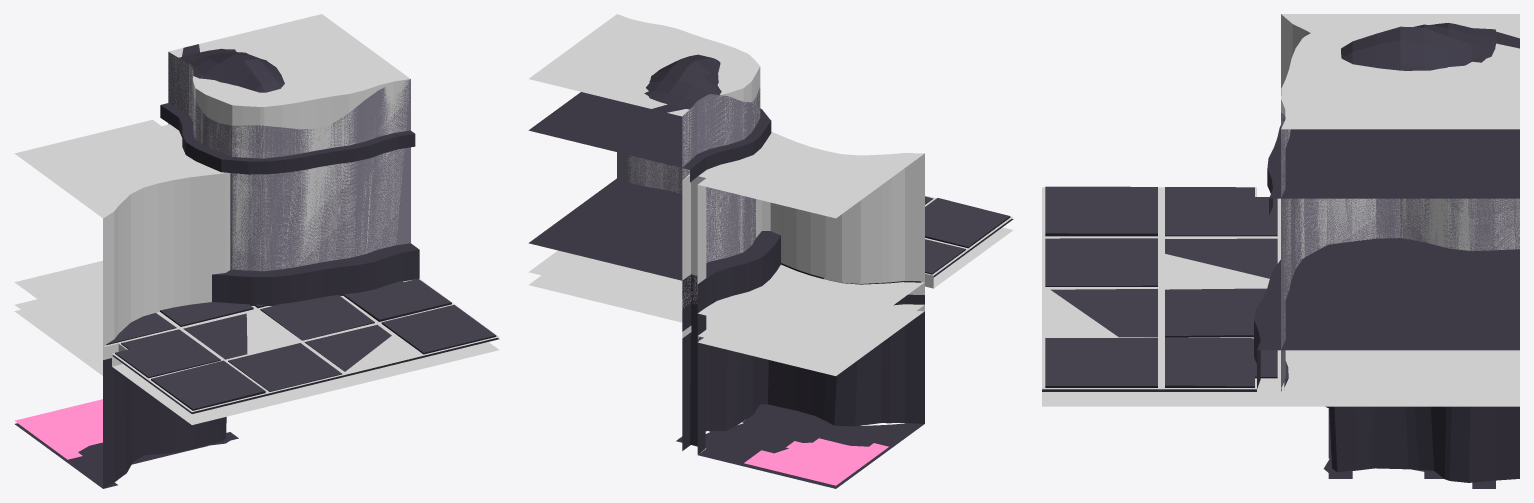
The model's file is Tile_LWFF.fbx.
3 views of the same model, side by side, from view 1: azimuth 30°, elevation 25°; view 2: azimuth 150°, elevation 25°; view 3: azimuth 270°, elevation 25° (orthographic). The views are drawn at different scales.
Parts seen in each view (by area): view 1: Tile_LWFF, Tile_LWFF_ColCrackBlocker, Tile_LWFF_ColWall, Tile_LWFF_ColGround, Tile_LWFF_ColCrackSurface; view 2: Tile_LWFF, Tile_LWFF_ColCrackBlocker, Tile_LWFF_ColWall, Tile_LWFF_ColGround, Tile_LWFF_ColCrackSurface; view 3: Tile_LWFF, Tile_LWFF_ColWall, Tile_LWFF_ColGround, Tile_LWFF_ColCrackBlocker.
Part boxes in pixels (bbox=[...]): Tile_LWFF: bbox=[14, 44, 499, 488]; Tile_LWFF_ColCrackBlocker: bbox=[14, 119, 230, 346]; Tile_LWFF_ColWall: bbox=[168, 14, 410, 270]; Tile_LWFF_ColGround: bbox=[103, 278, 499, 424]; Tile_LWFF_ColCrackSurface: bbox=[14, 299, 102, 375]; Tile_LWFF: bbox=[528, 54, 1013, 488]; Tile_LWFF_ColCrackBlocker: bbox=[682, 131, 924, 347]; Tile_LWFF_ColWall: bbox=[529, 14, 760, 309]; Tile_LWFF_ColGround: bbox=[528, 195, 1013, 322]; Tile_LWFF_ColCrackSurface: bbox=[682, 304, 924, 375]; Tile_LWFF: bbox=[1042, 23, 1519, 488]; Tile_LWFF_ColWall: bbox=[1281, 17, 1519, 389]; Tile_LWFF_ColGround: bbox=[1042, 187, 1519, 406]; Tile_LWFF_ColCrackBlocker: bbox=[1281, 14, 1519, 250].
Size of the model in its own units: 5 by 5.45 by 5.
